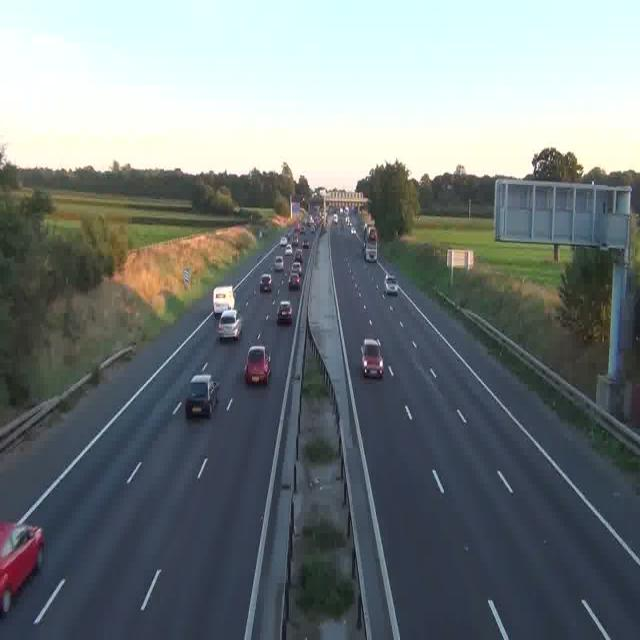car: (0, 522, 45, 613), (185, 373, 219, 418), (216, 290, 242, 340), (245, 344, 271, 384), (361, 338, 384, 377), (276, 302, 292, 324), (384, 275, 399, 294), (260, 273, 272, 292), (289, 273, 301, 290), (276, 256, 287, 271), (298, 243, 308, 256), (302, 236, 310, 249)
truck: (364, 234, 378, 261)
